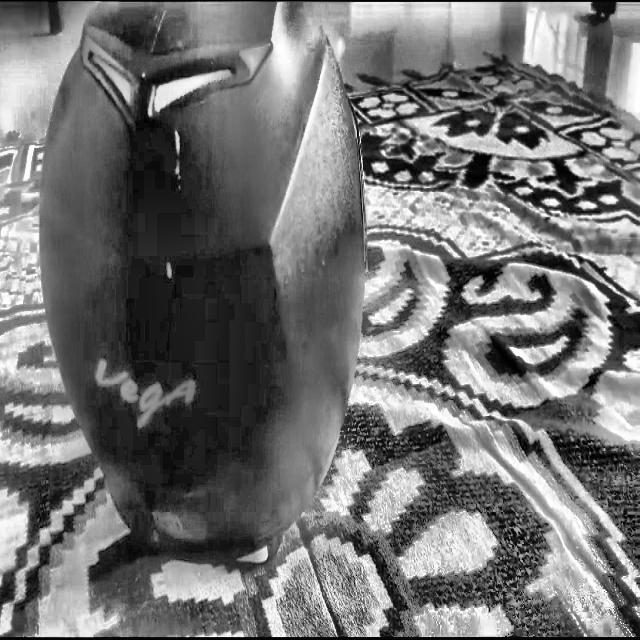Helmet: (36, 0, 375, 575)
